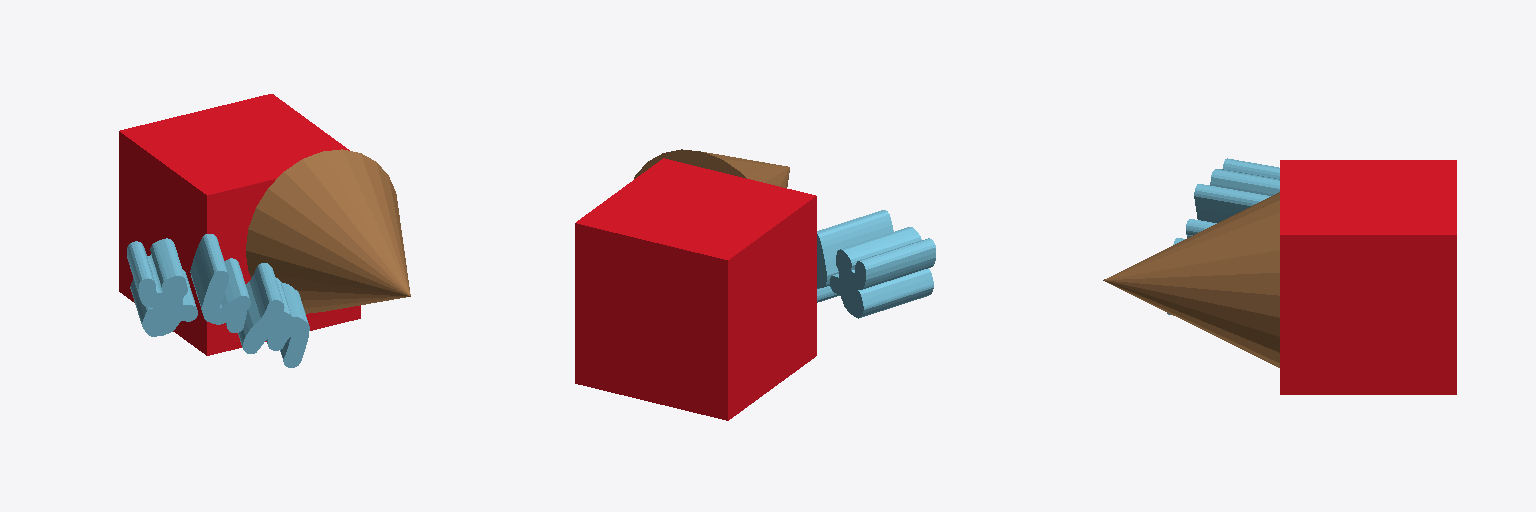
The model's file is tinker.obj.
3 views of the same model, side by side, from view 1: azimuth 30°, elevation 25°; view 2: azimuth 150°, elevation 25°; view 3: azimuth 270°, elevation 25° (orthographic).
Visible parts, largest first — view 1: obj_0; view 2: obj_0; view 3: obj_0.
Boxes of the visible parts, x1=… form: obj_0: x1=119, y1=94, x2=410, y2=367; obj_0: x1=575, y1=149, x2=935, y2=420; obj_0: x1=1103, y1=158, x2=1456, y2=394.
Size of the model in its own units: 37.28 by 22 by 40.